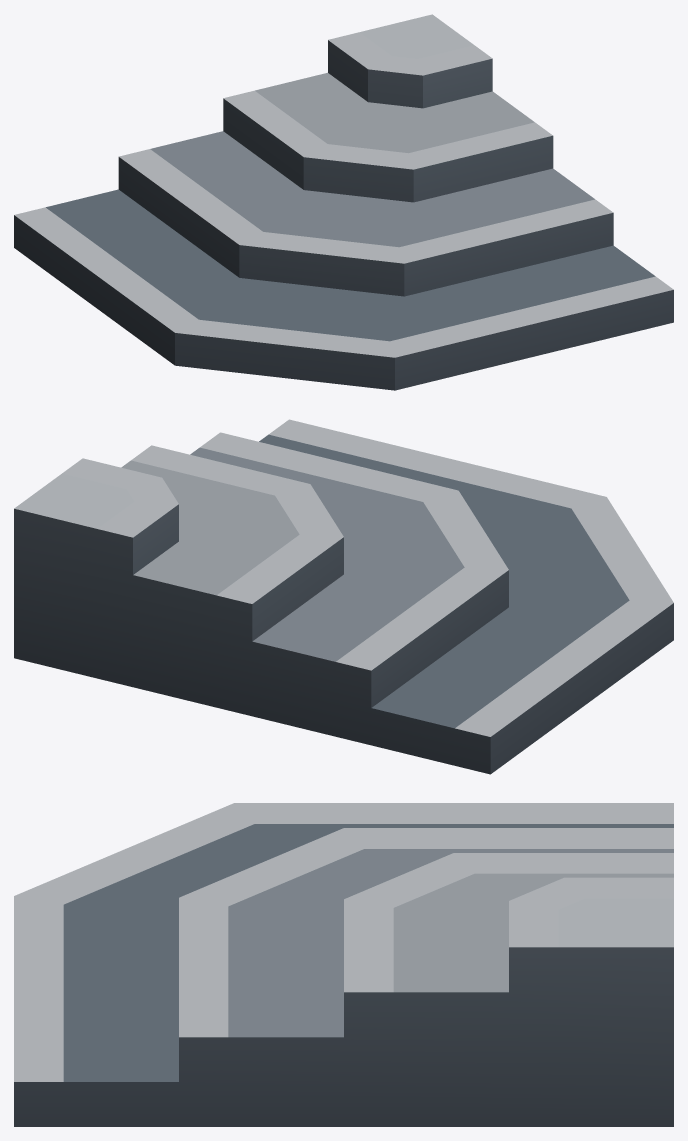
File: stairs-corner.glb
3 renders of one model, top to bottom at view 1: azimuth 30°, elevation 25°; view 2: azimuth 150°, elevation 25°; view 3: azimuth 270°, elevation 25°, orthographic. The views are drawn at different scales.
Visible parts, largest first — view 1: stairs-corner; view 2: stairs-corner; view 3: stairs-corner.
Boxes of the visible parts, box(x1,y1,x2,y2) form: stairs-corner: box(14, 14, 673, 390); stairs-corner: box(14, 419, 673, 774); stairs-corner: box(14, 803, 673, 1126).
Bounding box in the file's own units: 1 × 0.3 × 1.
